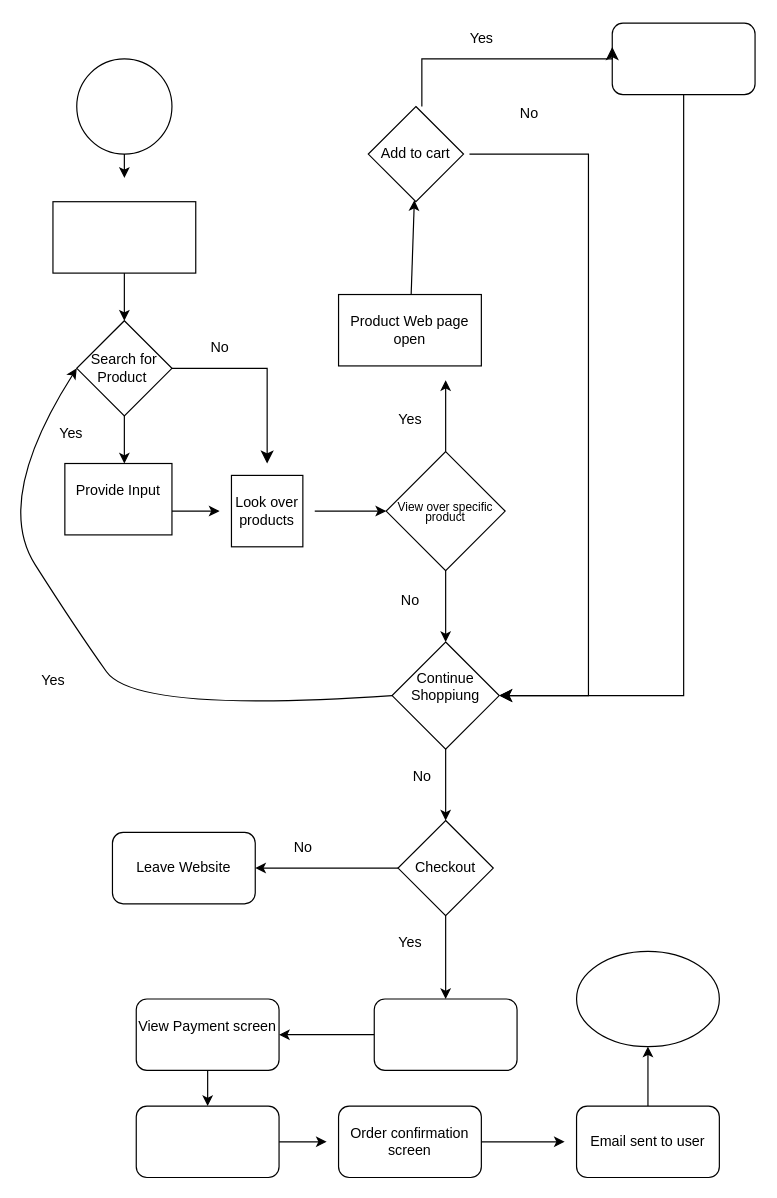
Some shapes in this 777 by 1198 pixel diagram are drawn without their labels. The centre of each missing label's shape, as x and y in pixels:
"Added to Cart conformation" goes at [683,58].
"End" goes at [647,998].
"Enter Website" goes at [124,237].
"Input Payment information" goes at [207,1141].
"Start" goes at [124,106].
"View Cart Screen" goes at [445,1034].
